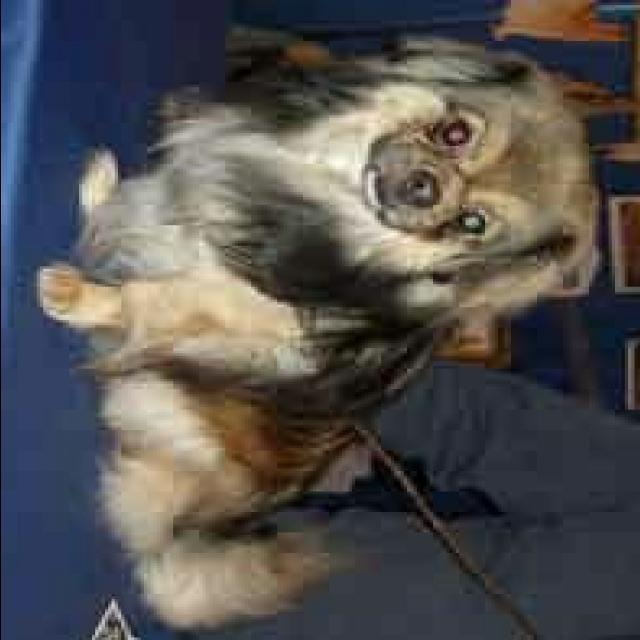husky: (29, 25, 604, 635)
